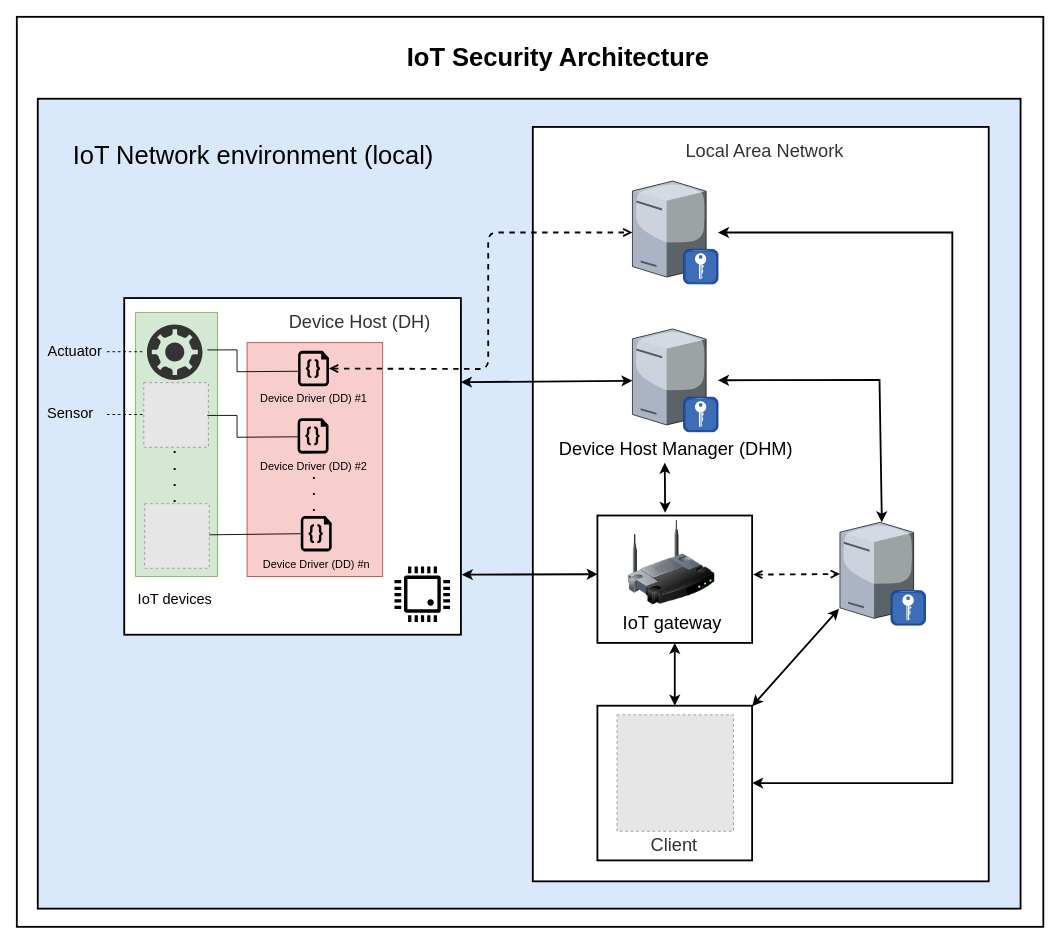
This 1059x943 diagram has some shape labels left out. Grey dashed boxes stand in for pictures. The box of each missing label's shape, as (x1, y1, x2, y2) in pixels:
Device Driver (DD) A3C: (632, 181, 718, 283)
Gateway A3C: (839, 522, 925, 625)
